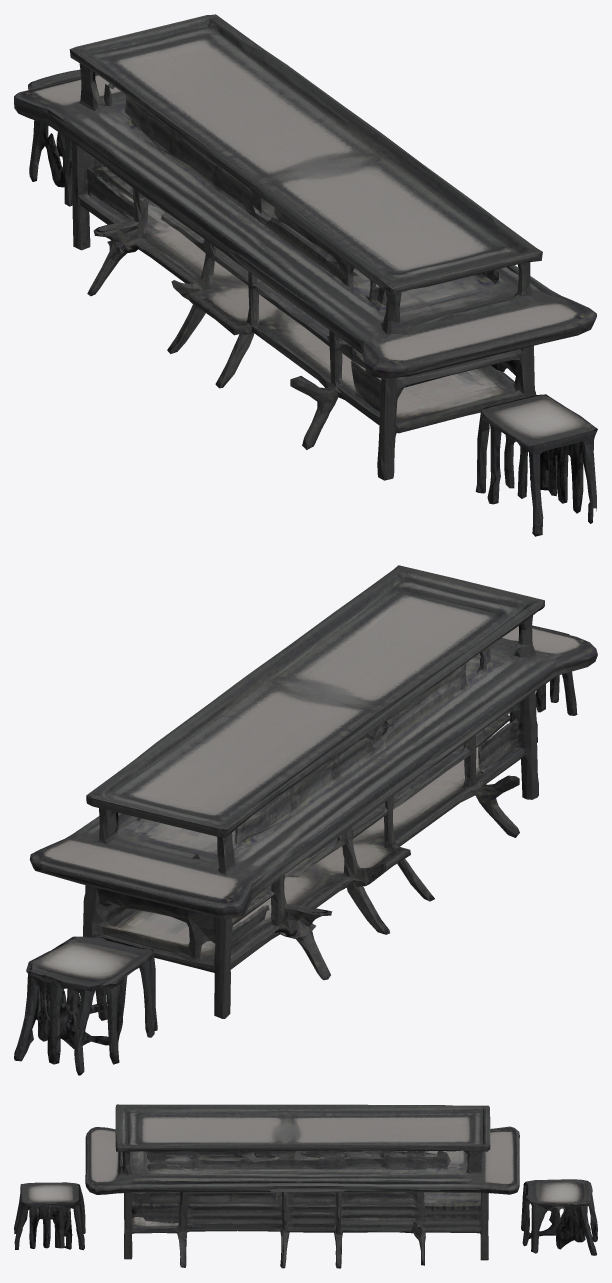
Rendered from trellis_result.glb.
3 renders of one model, top to bottom at view 1: azimuth 30°, elevation 25°; view 2: azimuth 150°, elevation 25°; view 3: azimuth 270°, elevation 25°, orthographic. The views are drawn at different scales.
Visible parts, largest first — view 1: world; view 2: world; view 3: world.
Boxes of the visible parts, x1,y1,x2,y2 form: world: [14, 14, 597, 536]; world: [14, 565, 597, 1075]; world: [14, 1104, 597, 1268].
Size of the model in its own units: 0.2601 by 0.2239 by 0.9999.
1 material, 1 textured.
